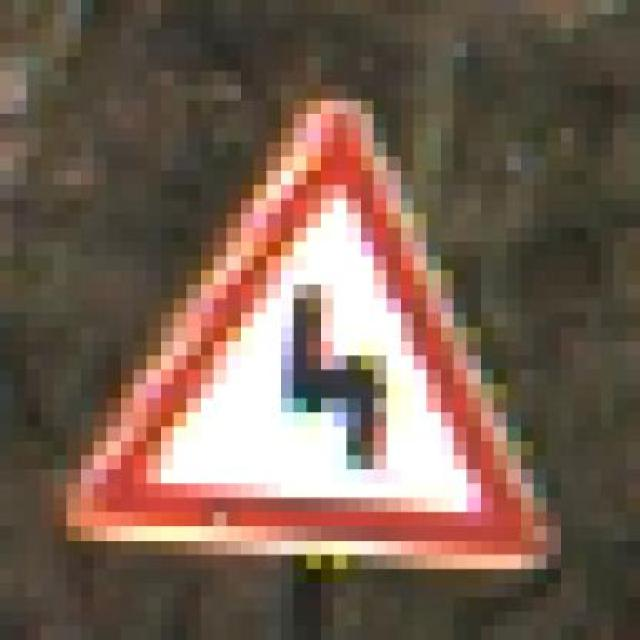Left Zig Zag Traffic: (52, 71, 559, 597)
